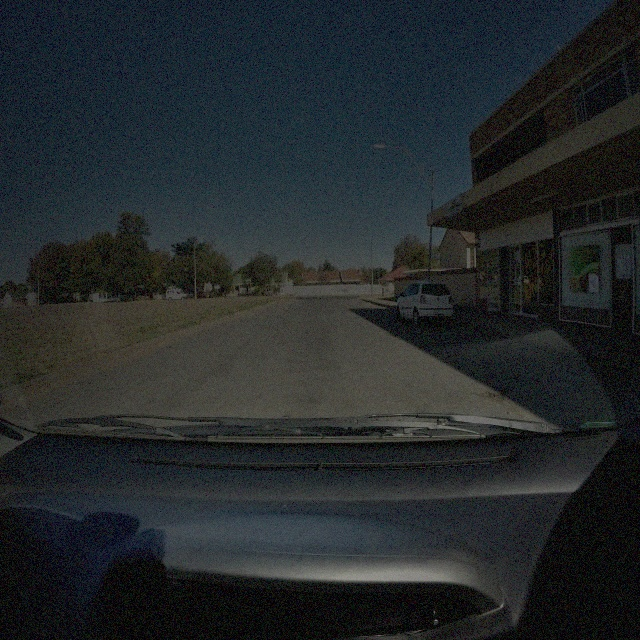pothole: (480, 386, 510, 411)
